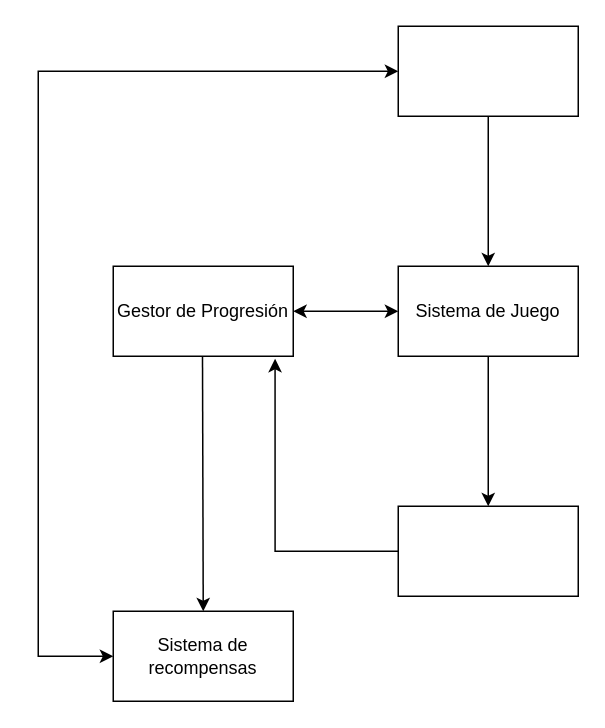
Image size: 605x728. Some labels were removed from this diagram. The shapes that lost their labels are listed below. From the top down, each one's centre as x and y in pixels, then its label:
At (487,70): "Usuario".
At (487,550): "Tienda/Mejoras".
